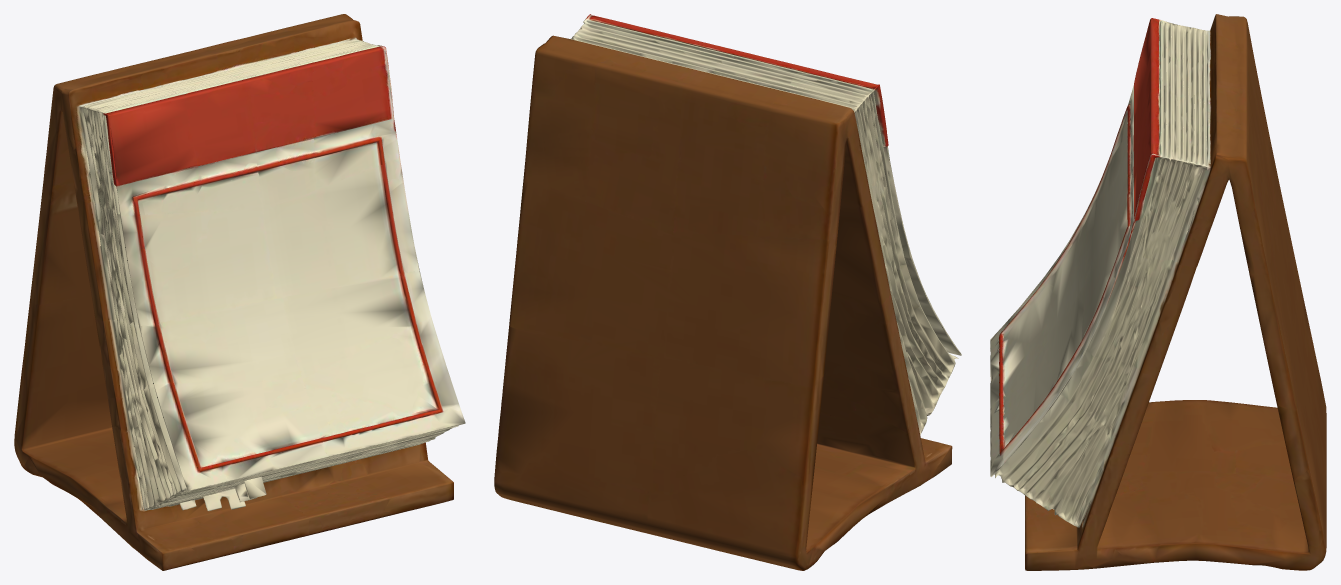
The model's file is calendar.glb.
The picture shows the model from 3 angles, left to right: view 1: azimuth 30°, elevation 25°; view 2: azimuth 150°, elevation 25°; view 3: azimuth 270°, elevation 25°; orthographic projection. The views are drawn at different scales.
Parts seen in each view (by area): view 1: tripo_node_2a219328-5602-4b48-8de1-3cf5a201ab5c; view 2: tripo_node_2a219328-5602-4b48-8de1-3cf5a201ab5c; view 3: tripo_node_2a219328-5602-4b48-8de1-3cf5a201ab5c.
Boxes of the visible parts, bbox=[...] form: tripo_node_2a219328-5602-4b48-8de1-3cf5a201ab5c: bbox=[14, 14, 465, 570]; tripo_node_2a219328-5602-4b48-8de1-3cf5a201ab5c: bbox=[494, 14, 961, 570]; tripo_node_2a219328-5602-4b48-8de1-3cf5a201ab5c: bbox=[990, 14, 1326, 570].
Size of the model in its own units: 0.2227 by 0.3 by 0.2197.
1 material, 1 textured.
